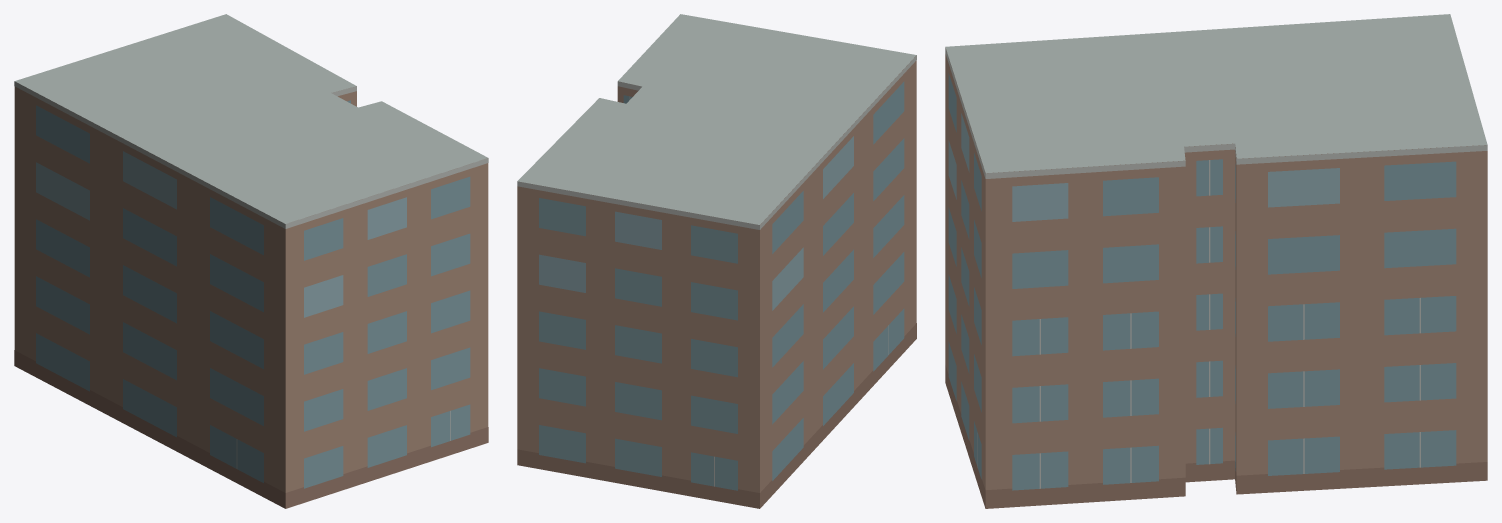
The model's file is survey-upis-32576142.glb.
3 renders of one model, left to right at view 1: azimuth 30°, elevation 25°; view 2: azimuth 150°, elevation 25°; view 3: azimuth 270°, elevation 25°, orthographic. The views are drawn at different scales.
Visible parts, largest first — view 1: survey-upis-32576142.tmp; view 2: survey-upis-32576142.tmp; view 3: survey-upis-32576142.tmp.
Boxes of the visible parts, left/top/right/bottom form: survey-upis-32576142.tmp: left=14, top=14, right=488, bottom=508; survey-upis-32576142.tmp: left=517, top=14, right=916, bottom=508; survey-upis-32576142.tmp: left=945, top=14, right=1487, bottom=508.
Size of the model in its own units: 14.14 by 13.89 by 20.35.
